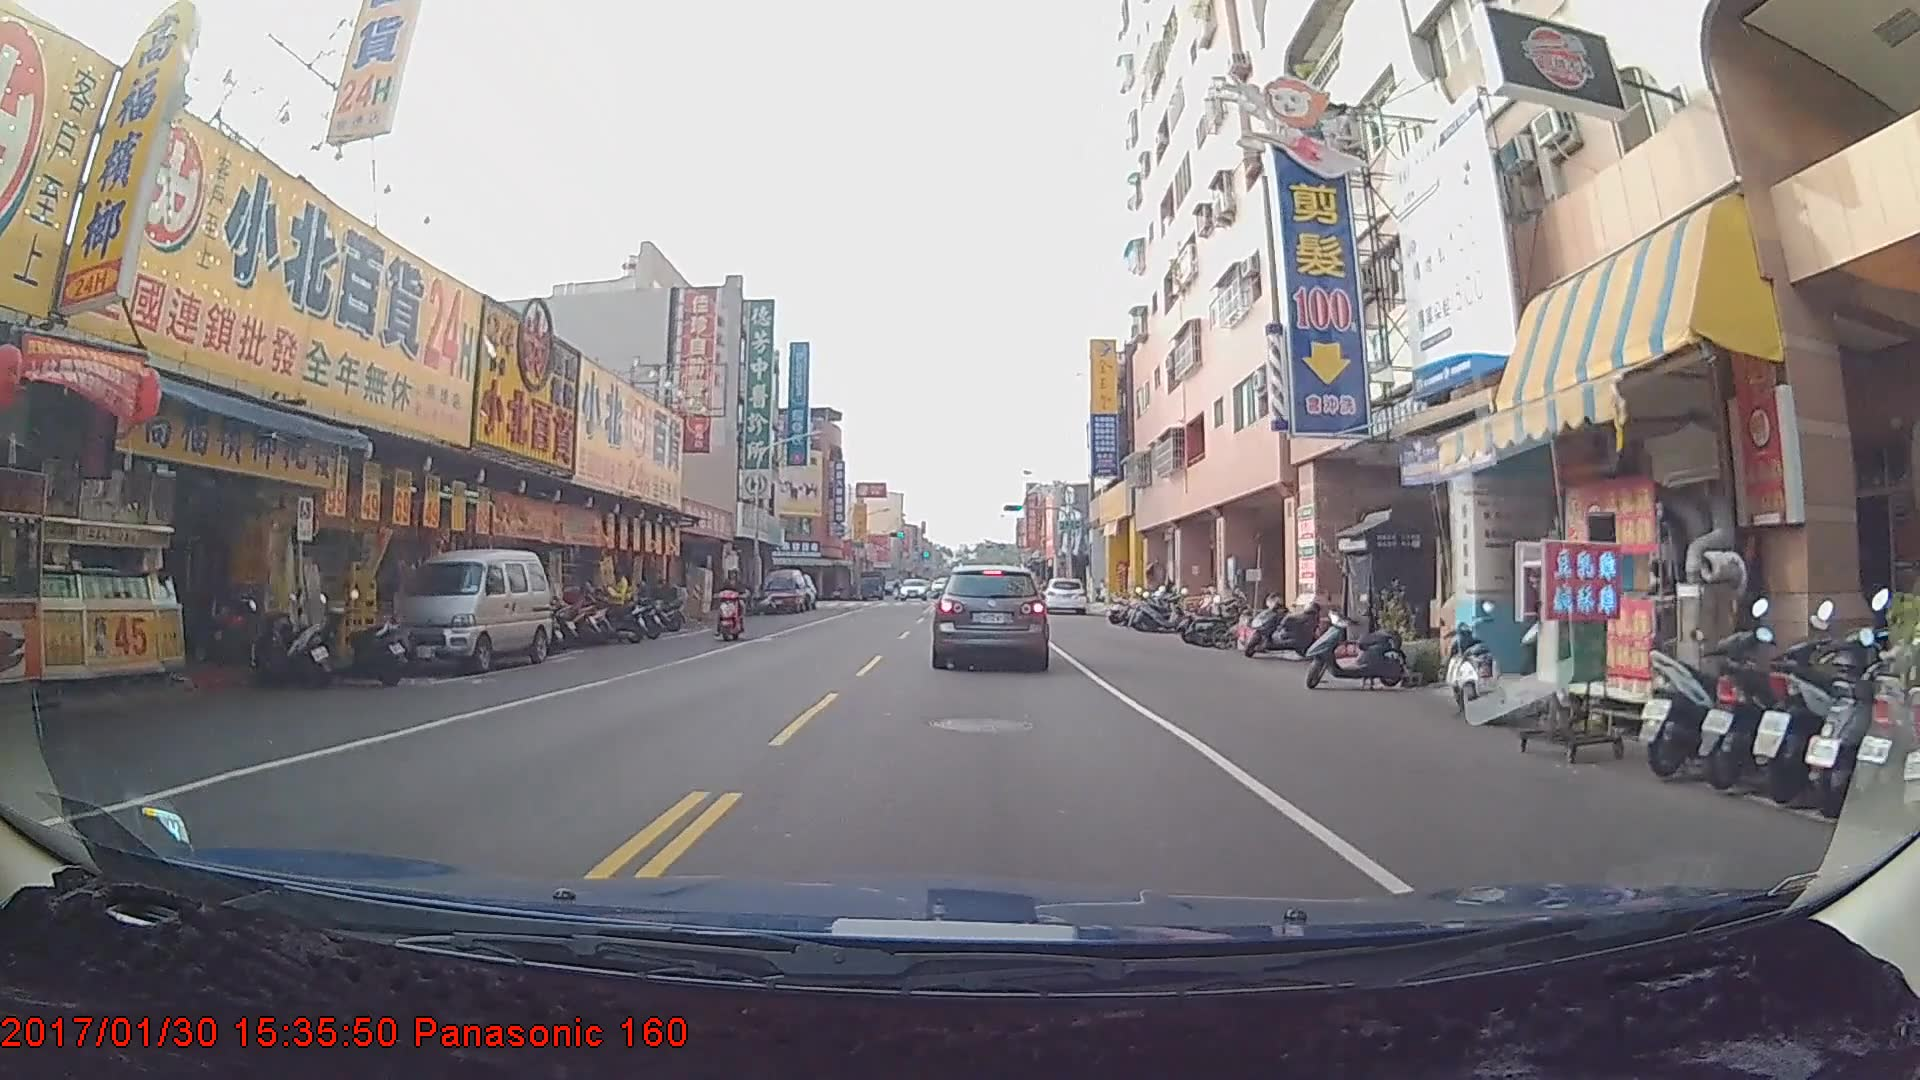pedestrian: (598, 566, 633, 637)
rider: (715, 562, 754, 643)
vehicle: (389, 547, 551, 674), (934, 562, 1048, 670), (759, 568, 809, 612), (1039, 576, 1087, 617), (897, 580, 926, 602)
